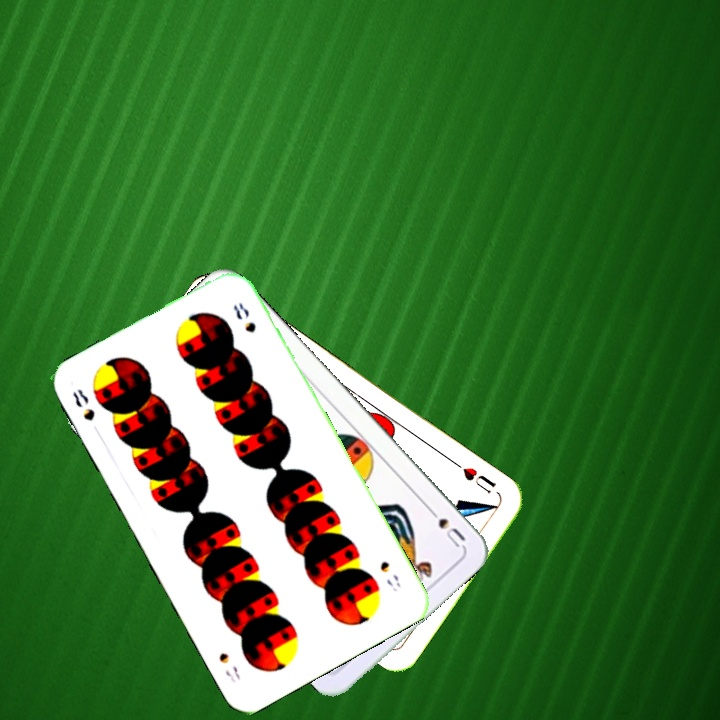HU: (458, 463, 499, 497)
S8: (68, 384, 98, 424), (376, 557, 403, 595)
SU: (422, 502, 468, 550)
